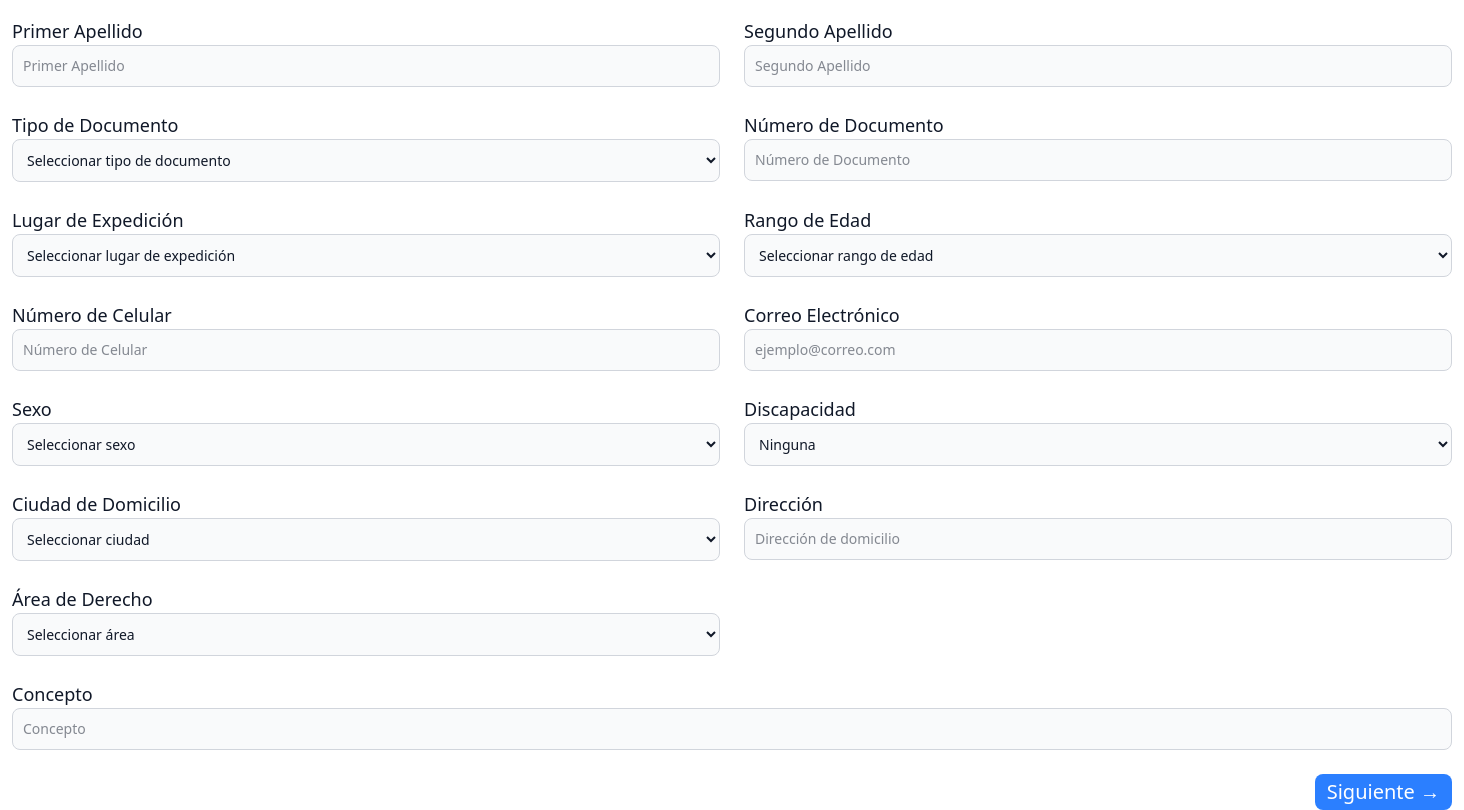
Test: DatosBasicos - Partición Equivalente y AVL › PARTICIÓN EQUIVALENTE - Casos de Prueba › PE006: Tipo documento inválido (partición inválida)
(page scrolled)
Click the button "Siguiente →": (1383, 792) [1315, 774, 1452, 809]
(page scrolled)
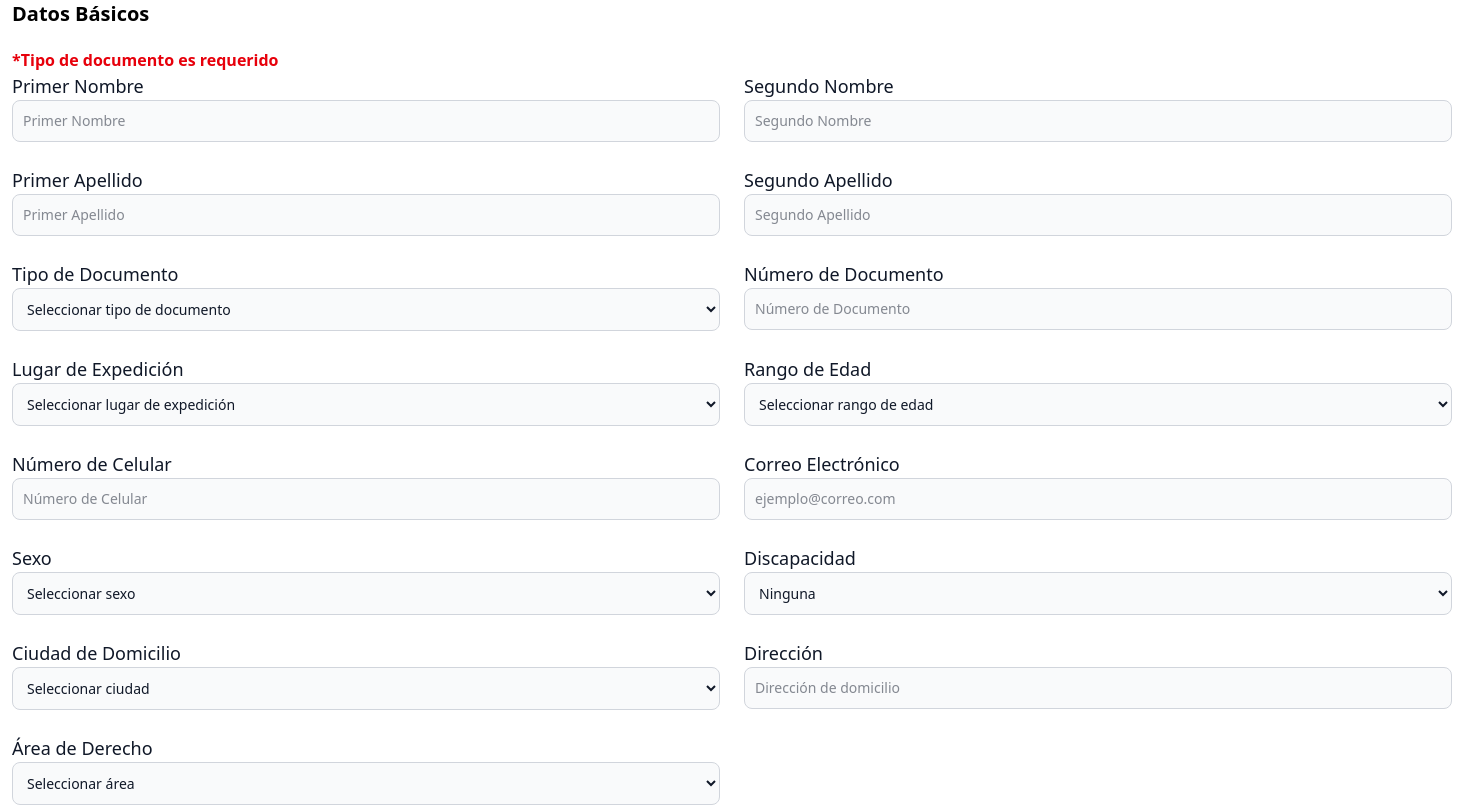
expect the text "*Tipo de documento es requerido" is shown: met, box [12, 49, 278, 71]
